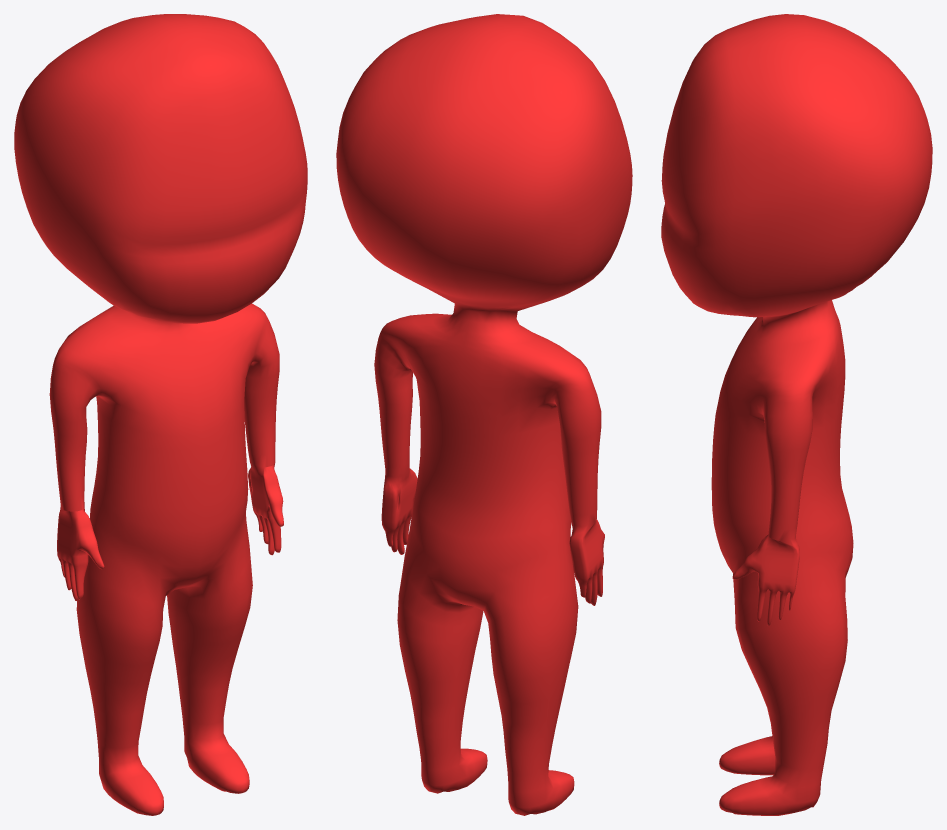
Rendered from Human_2-1.fbx.
The picture shows the model from 3 angles, left to right: view 1: azimuth 30°, elevation 25°; view 2: azimuth 150°, elevation 25°; view 3: azimuth 270°, elevation 25°; orthographic projection.
Visible parts, largest first — view 1: Cylinder003; view 2: Cylinder003; view 3: Cylinder003.
Part boxes in pixels (<box>): Cylinder003: <box>14,14,307,815</box>; Cylinder003: <box>336,14,632,815</box>; Cylinder003: <box>661,14,932,815</box>.
Bounding box in the file's own units: 25.89 × 77.42 × 25.04.
